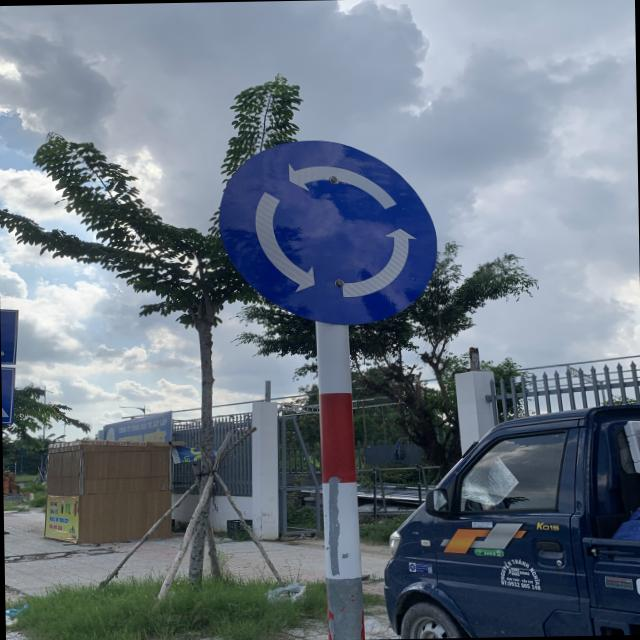Xe_Bus: (217, 137, 438, 326)
